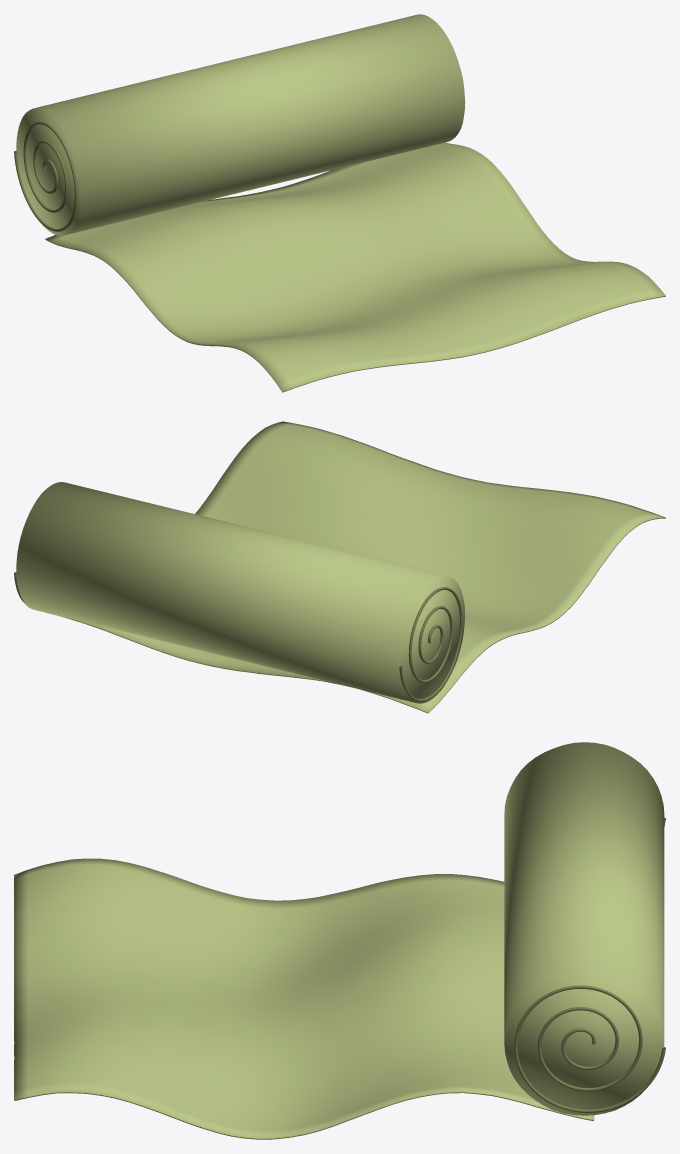
The picture shows the model from 3 angles, top to bottom: view 1: azimuth 30°, elevation 25°; view 2: azimuth 150°, elevation 25°; view 3: azimuth 270°, elevation 25°; orthographic projection. The views are drawn at different scales.
Parts seen in each view (by area): view 1: TI011 / editable draped woven sheet, TI011 / rolled cloth body, TI011 / visible spiral selvage; view 2: TI011 / rolled cloth body, TI011 / editable draped woven sheet, TI011 / visible spiral selvage; view 3: TI011 / editable draped woven sheet, TI011 / rolled cloth body, TI011 / visible spiral selvage.001.
Part boxes in pixels (box(x1,y1,x2,y2)): TI011 / editable draped woven sheet: box(45, 142, 665, 392); TI011 / rolled cloth body: box(16, 14, 465, 235); TI011 / visible spiral selvage: box(14, 121, 77, 231); TI011 / rolled cloth body: box(16, 482, 464, 703); TI011 / editable draped woven sheet: box(45, 421, 665, 713); TI011 / visible spiral selvage: box(399, 587, 462, 701); TI011 / editable draped woven sheet: box(14, 858, 594, 1139); TI011 / rolled cloth body: box(504, 742, 664, 1115); TI011 / visible spiral selvage.001: box(514, 985, 665, 1112).
Bounding box in the file's own units: 2.73 × 0.9342 × 3.26.
